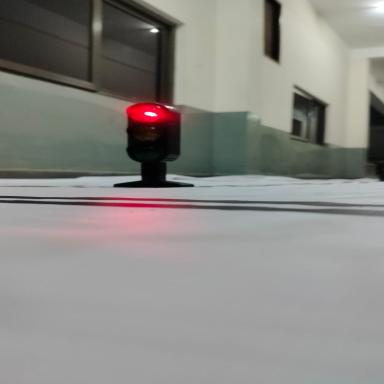traffic red: (95, 88, 201, 198)
